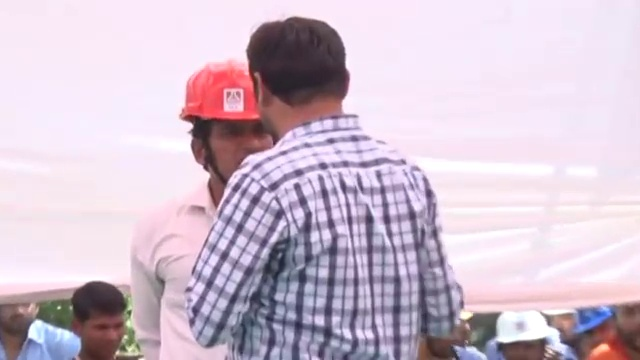helmet: (179, 57, 269, 127), (494, 309, 552, 345), (575, 303, 613, 336)
helmet_off: (245, 18, 351, 145), (68, 280, 133, 360), (1, 300, 40, 338), (546, 308, 581, 343), (614, 302, 640, 336)
helmet_on: (184, 57, 280, 192), (494, 310, 552, 360), (575, 301, 615, 348)
person: (178, 23, 460, 360), (128, 58, 276, 355), (0, 300, 84, 357), (587, 300, 640, 360)
